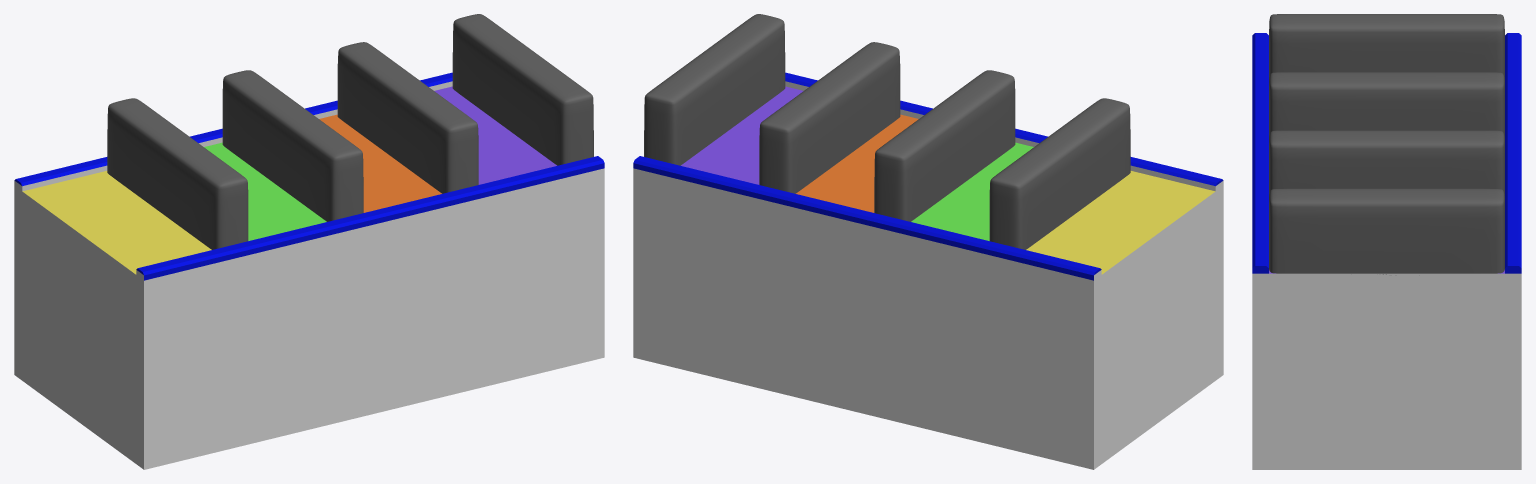
File: RushBreakBonus.fbx
3 renders of one model, left to right at view 1: azimuth 30°, elevation 25°; view 2: azimuth 150°, elevation 25°; view 3: azimuth 270°, elevation 25°, orthographic. The views are drawn at different scales.
Visible parts, largest first — view 1: Straight, Cube.002, Cube.001, Cube, Cube.003; view 2: Straight, Cube.002, Cube.001, Cube, Cube.003; view 3: Straight, Cube.003, Cube.002, Cube, Cube.001.
Part boxes in pixels (left/top/right/bottom): Straight: left=14, top=72, right=604, bottom=469; Cube.002: left=337, top=42, right=478, bottom=193; Cube.001: left=222, top=70, right=363, bottom=221; Cube: left=107, top=98, right=248, bottom=249; Cube.003: left=452, top=14, right=593, bottom=165; Straight: left=633, top=72, right=1223, bottom=469; Cube.002: left=759, top=42, right=900, bottom=193; Cube.001: left=874, top=70, right=1015, bottom=221; Cube: left=989, top=98, right=1130, bottom=249; Cube.003: left=644, top=14, right=785, bottom=165; Straight: left=1252, top=33, right=1521, bottom=469; Cube.003: left=1269, top=188, right=1504, bottom=274; Cube.002: left=1269, top=130, right=1504, bottom=203; Cube: left=1269, top=14, right=1504, bottom=86; Cube.001: left=1269, top=72, right=1504, bottom=144.
Bounding box in the file's own units: 28 × 15 × 13.67.
